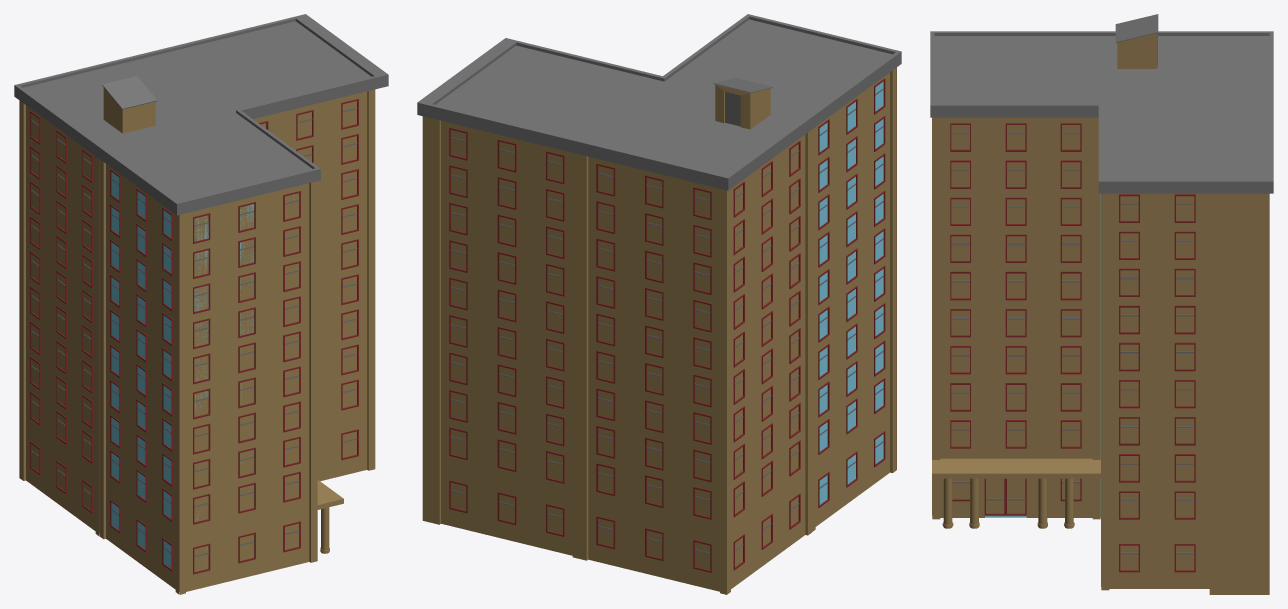
Rendered from building.fbx.
3 renders of one model, left to right at view 1: azimuth 30°, elevation 25°; view 2: azimuth 150°, elevation 25°; view 3: azimuth 270°, elevation 25°, orthographic. The views are drawn at different scales.
Parts seen in each view (by area): view 1: Main; view 2: Main; view 3: Main.
Boxes of the visible parts, x1,y1,x2,y2 form: Main: (14, 14, 388, 594); Main: (417, 14, 901, 594); Main: (930, 14, 1273, 594).
Size of the model in its own units: 972 by 1355 by 939.
